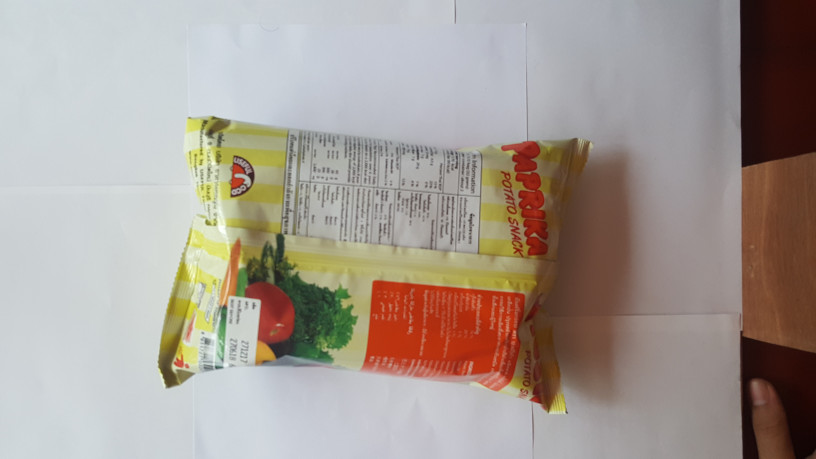paprika: (154, 102, 590, 418)
